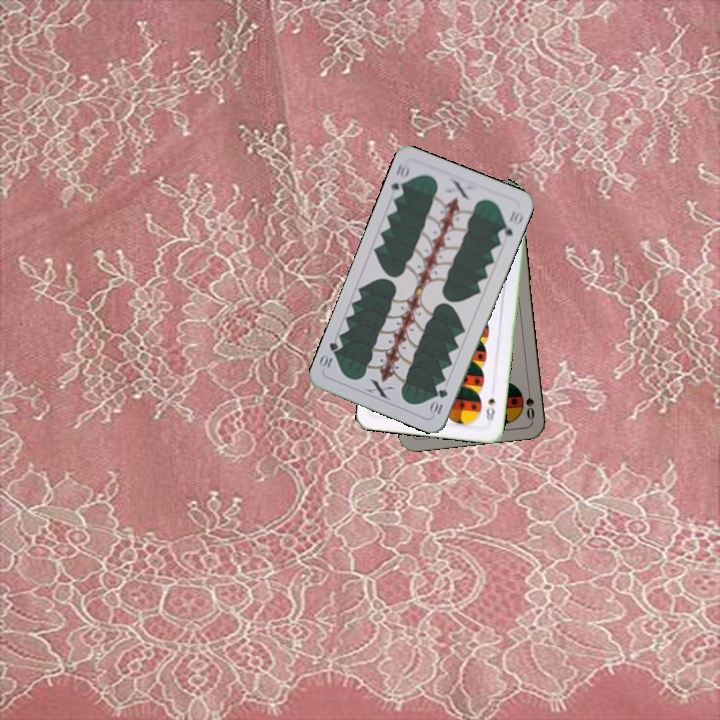G10: (387, 159, 412, 200), (427, 385, 450, 418)
S8: (482, 394, 498, 427)
SO: (522, 382, 537, 423)
